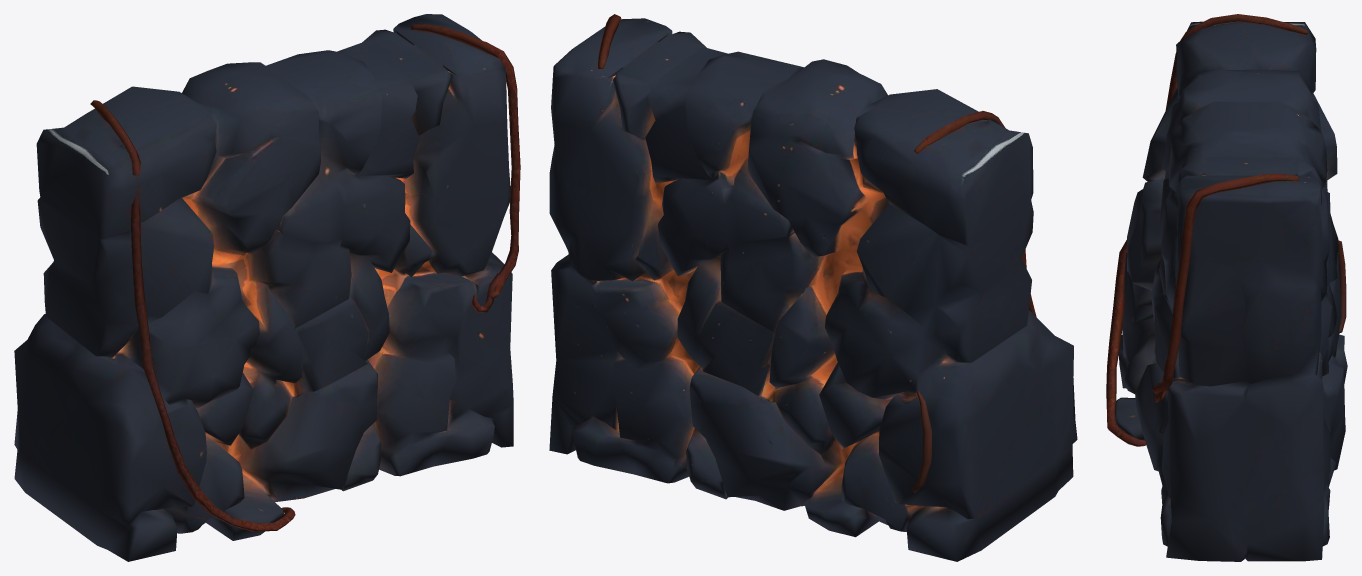
Rendered from forgeWall.glb.
The picture shows the model from 3 angles, left to right: view 1: azimuth 30°, elevation 25°; view 2: azimuth 150°, elevation 25°; view 3: azimuth 270°, elevation 25°; orthographic projection. The views are drawn at different scales.
Size of the model in its own units: 0.9585 by 0.8349 by 0.4829.
Materials: 1 (1 with a texture image).
